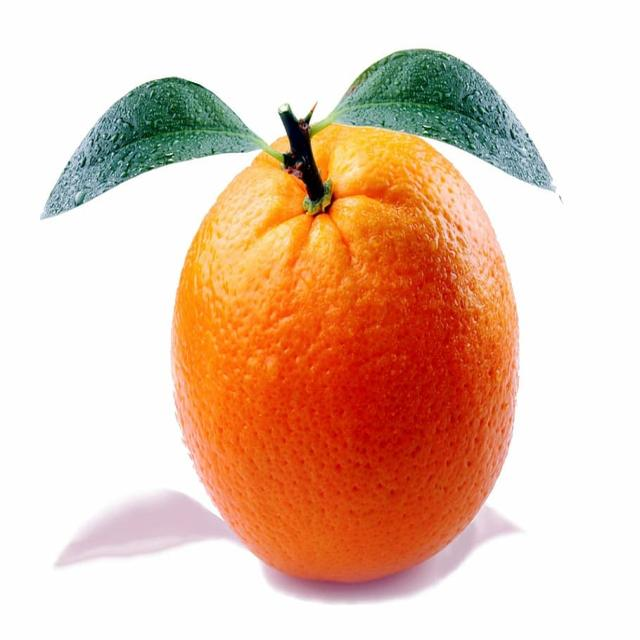orange: (173, 107, 526, 580)
